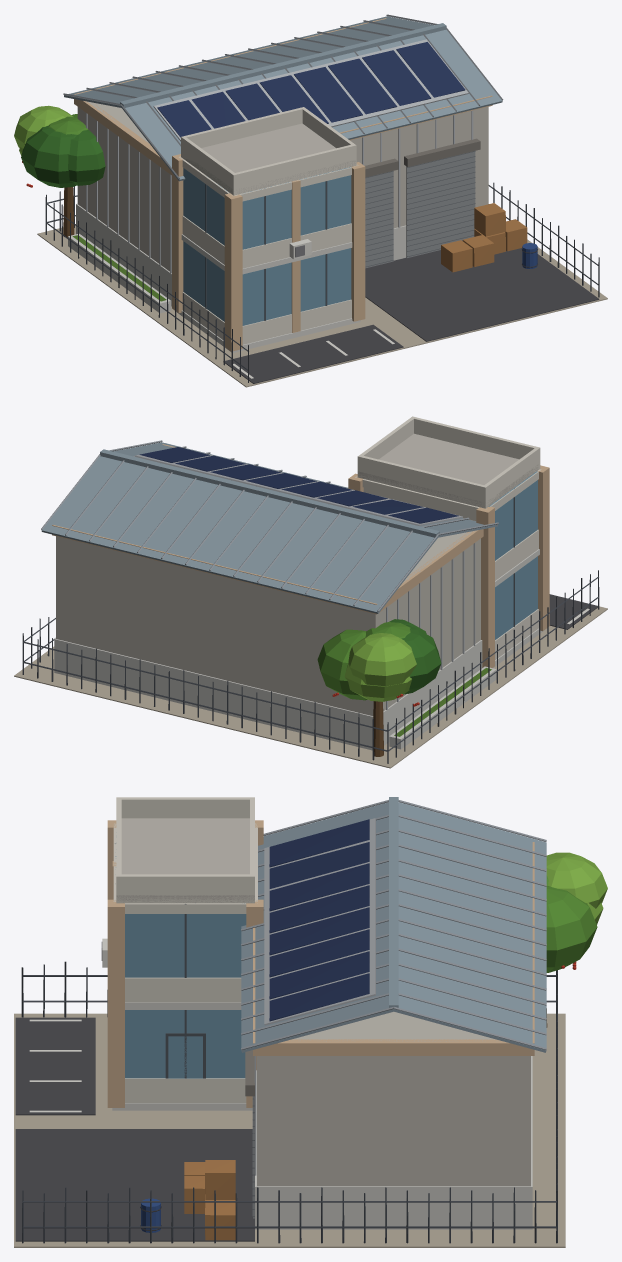
File: factory_1.glb
3 renders of one model, top to bottom at view 1: azimuth 30°, elevation 25°; view 2: azimuth 150°, elevation 25°; view 3: azimuth 270°, elevation 25°, orthographic. The views are drawn at different scales.
Visible parts, largest first — view 1: body; view 2: body; view 3: body.
Boxes of the visible parts, box(x1,y1,x2,y2) form: body: box(14, 14, 607, 387); body: box(14, 416, 607, 768); body: box(14, 797, 607, 1247).
Size of the model in its own units: 17.04 by 7.48 by 17.12.
